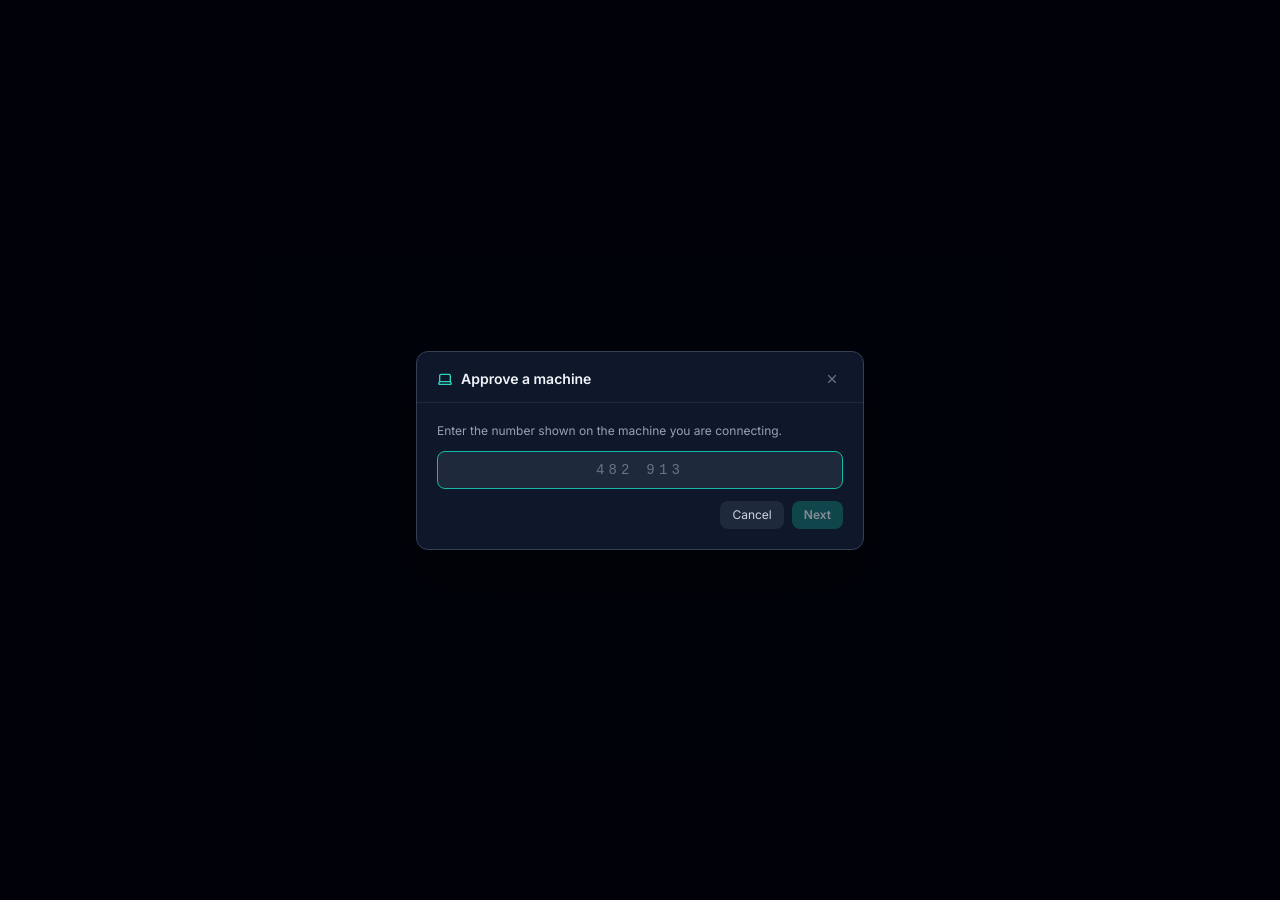
ApproveRunnerDialog › only lets a six-digit number through, spaces and dashes aside
The image size is (1280, 900).
Step 1. Type "482 91" into the field named "Approval number" → (640, 470), box x1=437 y1=450 x2=843 y2=488
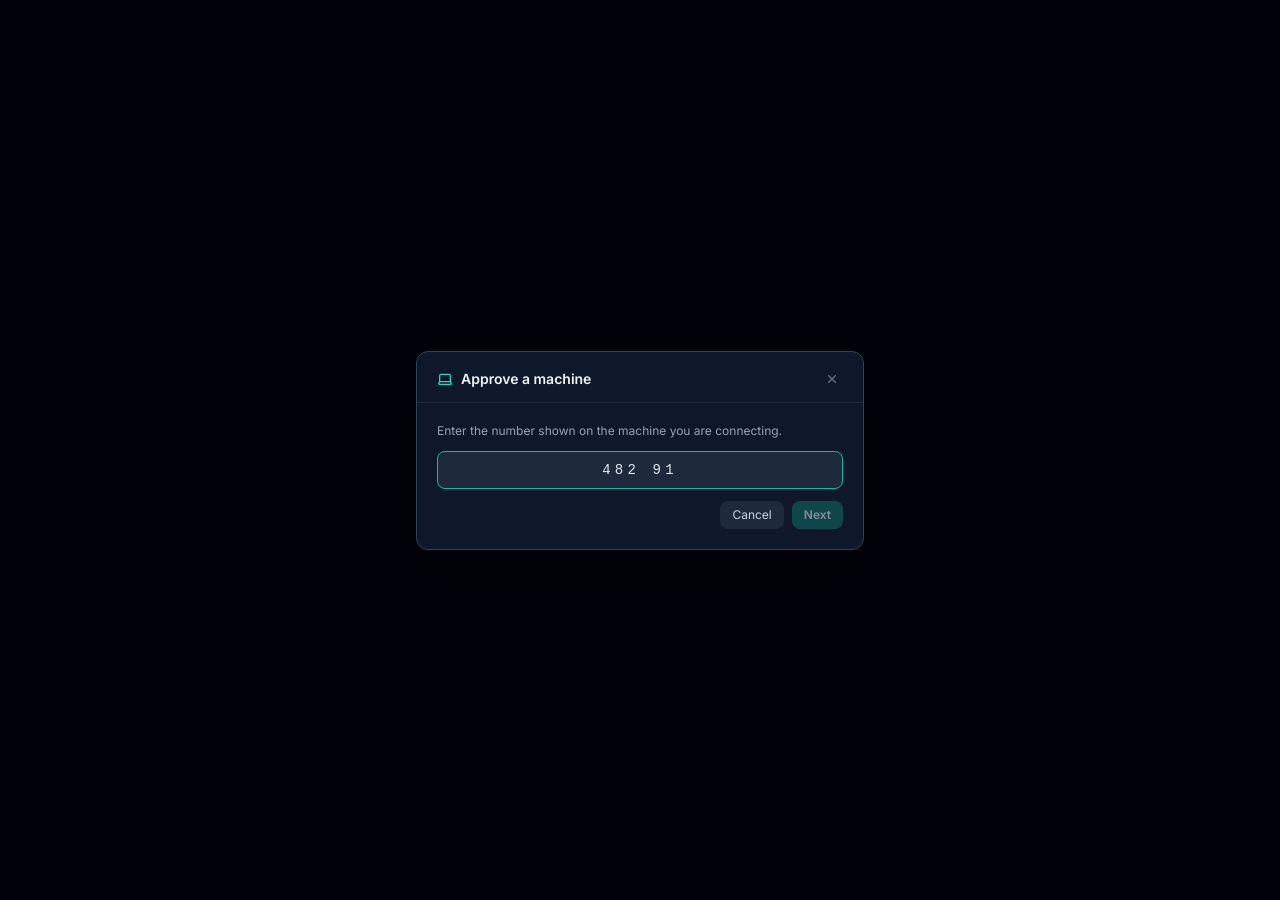
Check: the button "Next" is disabled, box x1=792 y1=500 x2=843 y2=528
Step 2. Replace the text in the field named "Approval number" with "482-913" → (640, 470), box x1=437 y1=450 x2=843 y2=488
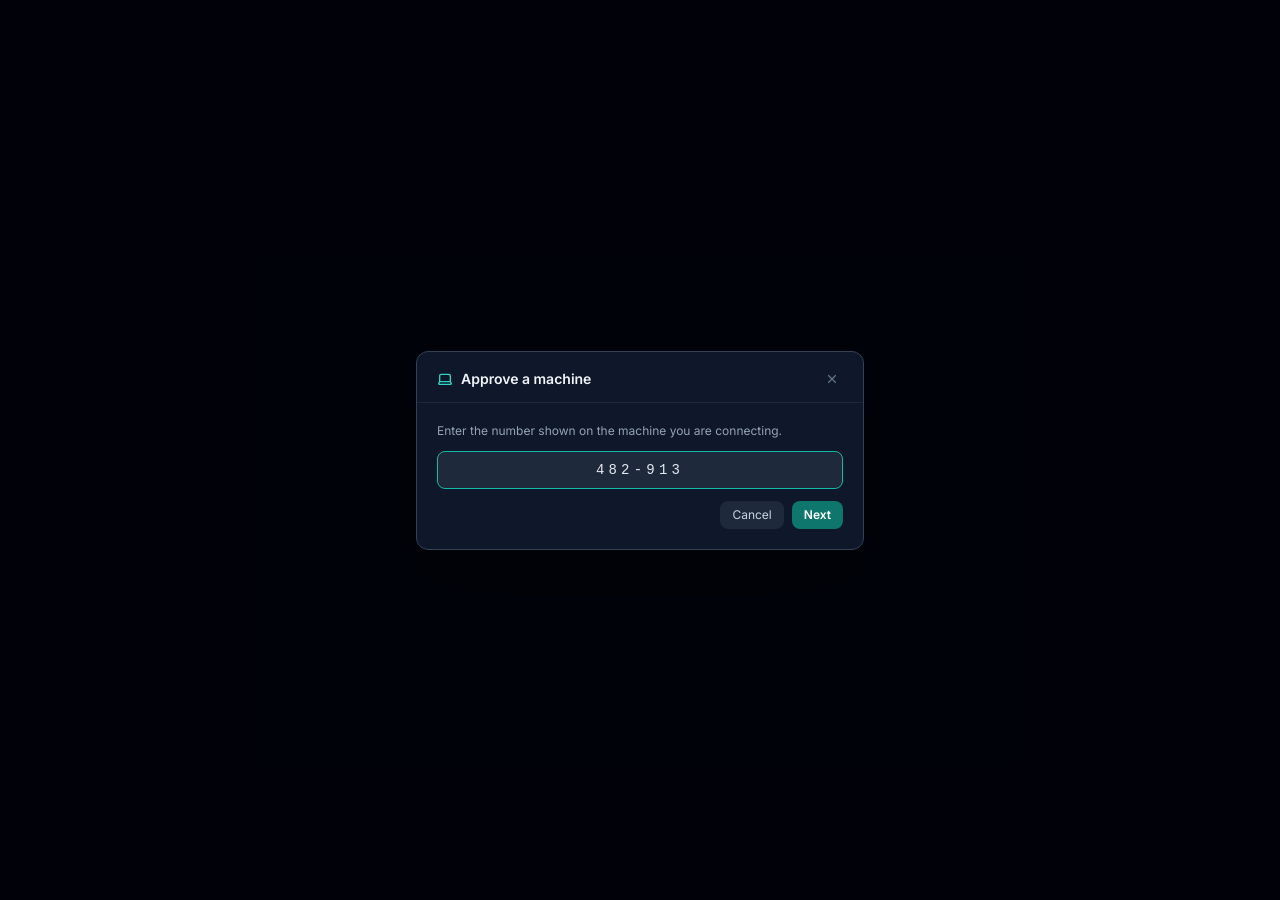
Check: the button "Next" is enabled, box x1=792 y1=500 x2=843 y2=528
